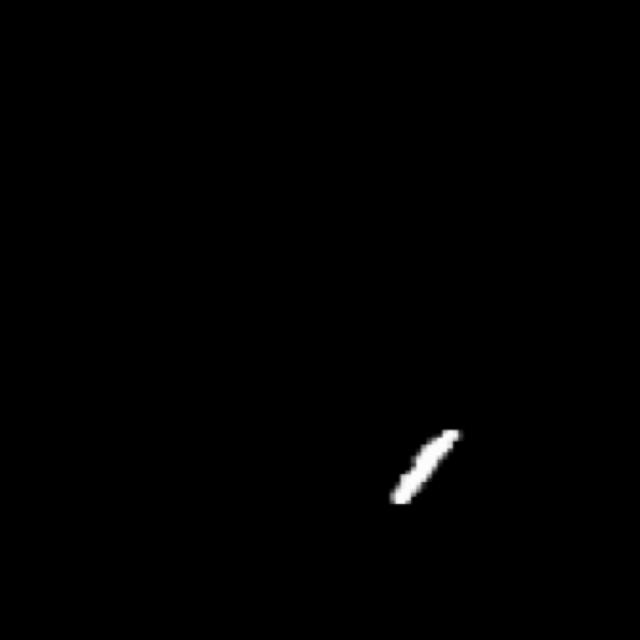one -1-: (372, 418, 478, 516)
